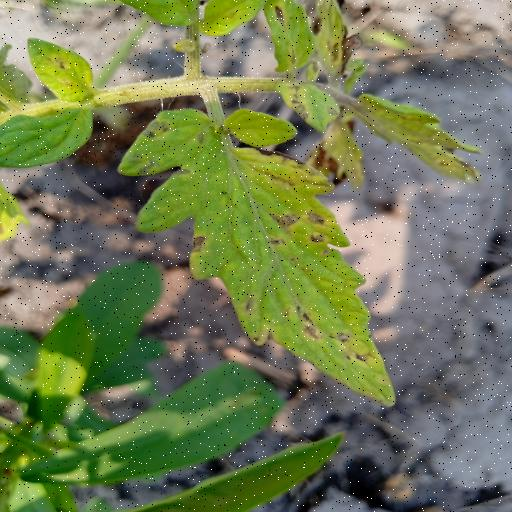Tomato_Brown_Spots: (114, 105, 399, 408)
